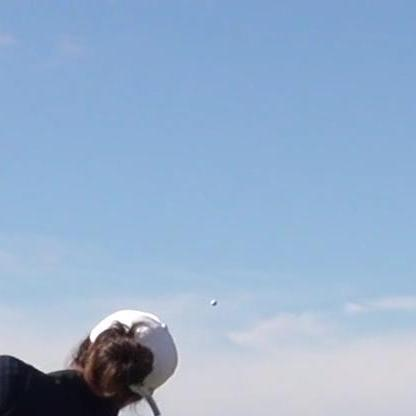golfball: (208, 297, 216, 304)
